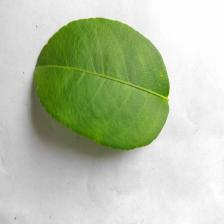greening: (30, 15, 173, 148)
